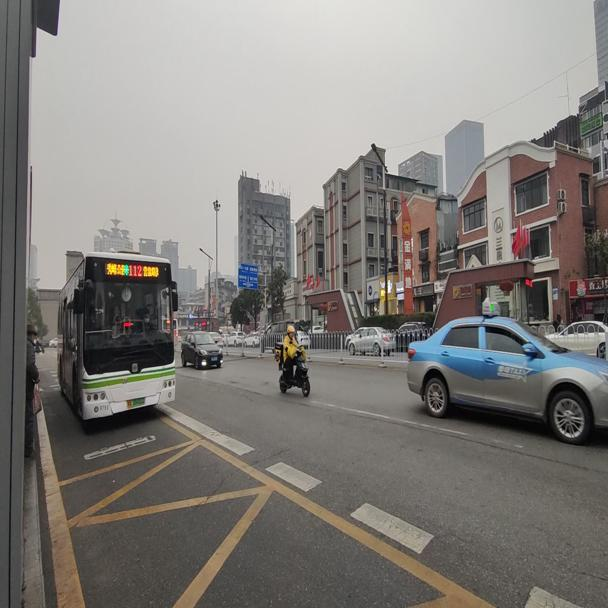bus: (56, 252, 176, 423)
screen: (127, 261, 142, 279)
